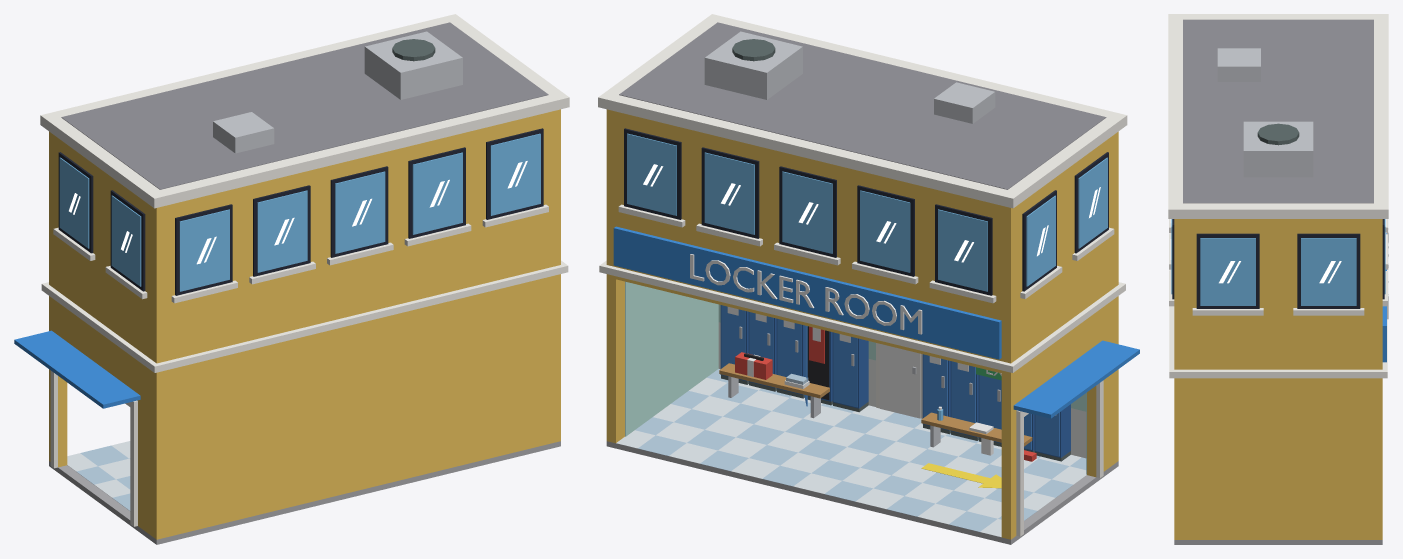
The model's file is Building_Start_LockerRoom.fbx.
3 views of the same model, side by side, from view 1: azimuth 30°, elevation 25°; view 2: azimuth 150°, elevation 25°; view 3: azimuth 270°, elevation 25° (orthographic). The views are drawn at different scales.
Parts seen in each view (by area): view 1: LockerRoom_Shell, LockerRoom_Details, LockerRoom_Interior; view 2: LockerRoom_Details, LockerRoom_Interior, LockerRoom_Shell; view 3: LockerRoom_Details, LockerRoom_Shell.
Boxes of the visible parts, x1=… form: LockerRoom_Shell: x1=49, y1=109, x2=560, y2=544; LockerRoom_Details: x1=14, y1=14, x2=569, y2=526; LockerRoom_Interior: x1=67, y1=441, x2=130, y2=510; LockerRoom_Details: x1=598, y1=14, x2=1139, y2=536; LockerRoom_Interior: x1=616, y1=281, x2=1086, y2=537; LockerRoom_Shell: x1=606, y1=109, x2=1118, y2=544; LockerRoom_Details: x1=1168, y1=14, x2=1388, y2=378; LockerRoom_Shell: x1=1174, y1=219, x2=1382, y2=544.
Bounding box in the file's own units: 28.75 × 23.45 × 12.7.
